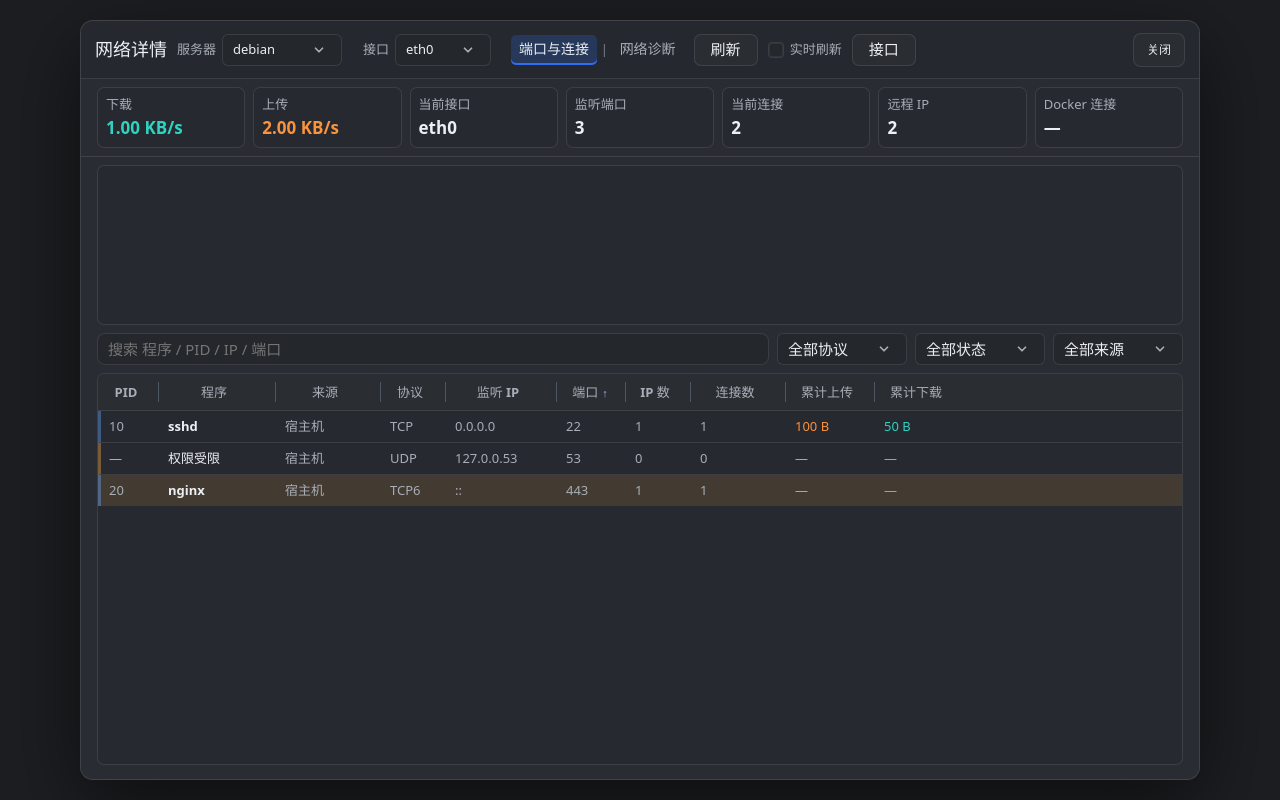
Test case: NetworkDetailsDialog › embeds network diagnostics as an internal tab
Click the button "网络诊断" at (648,50), box x1=612 y1=34 x2=684 y2=64
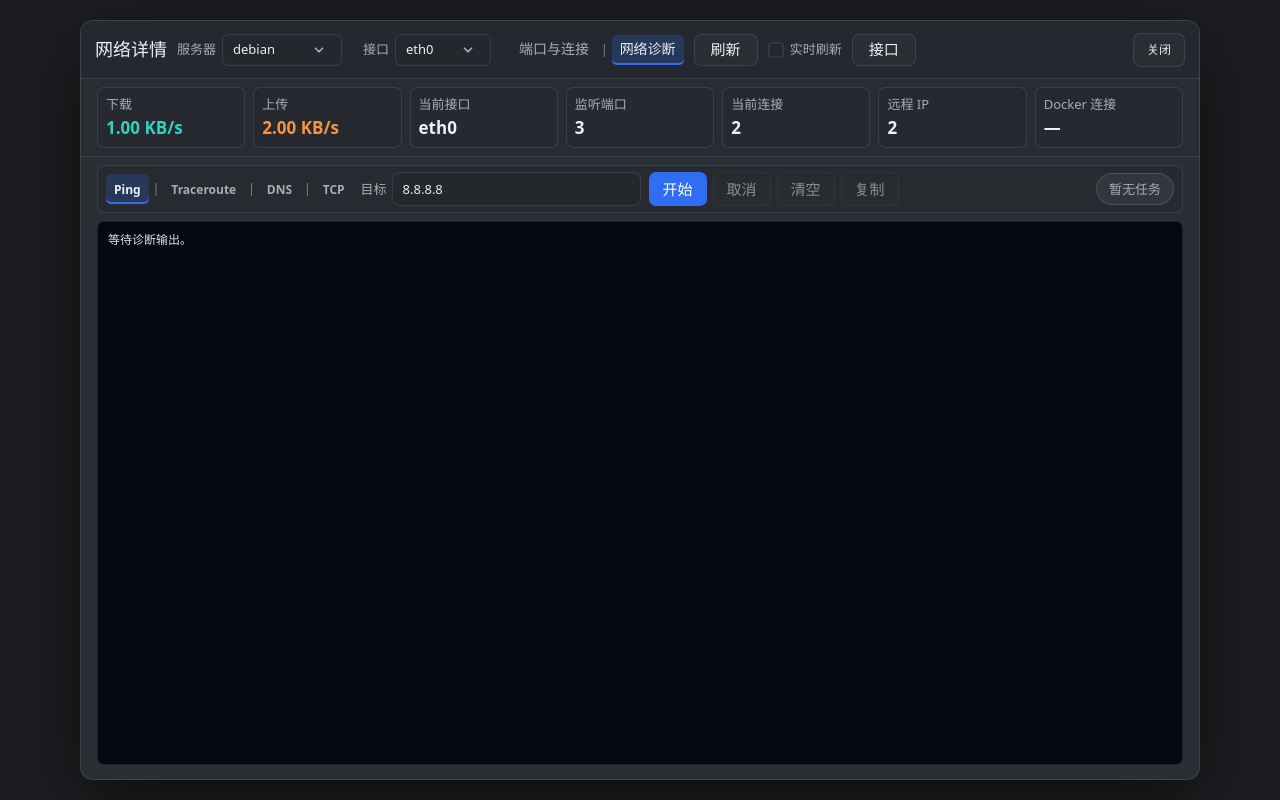
Now the element with test id "network-diagnostics-panel" is shown
